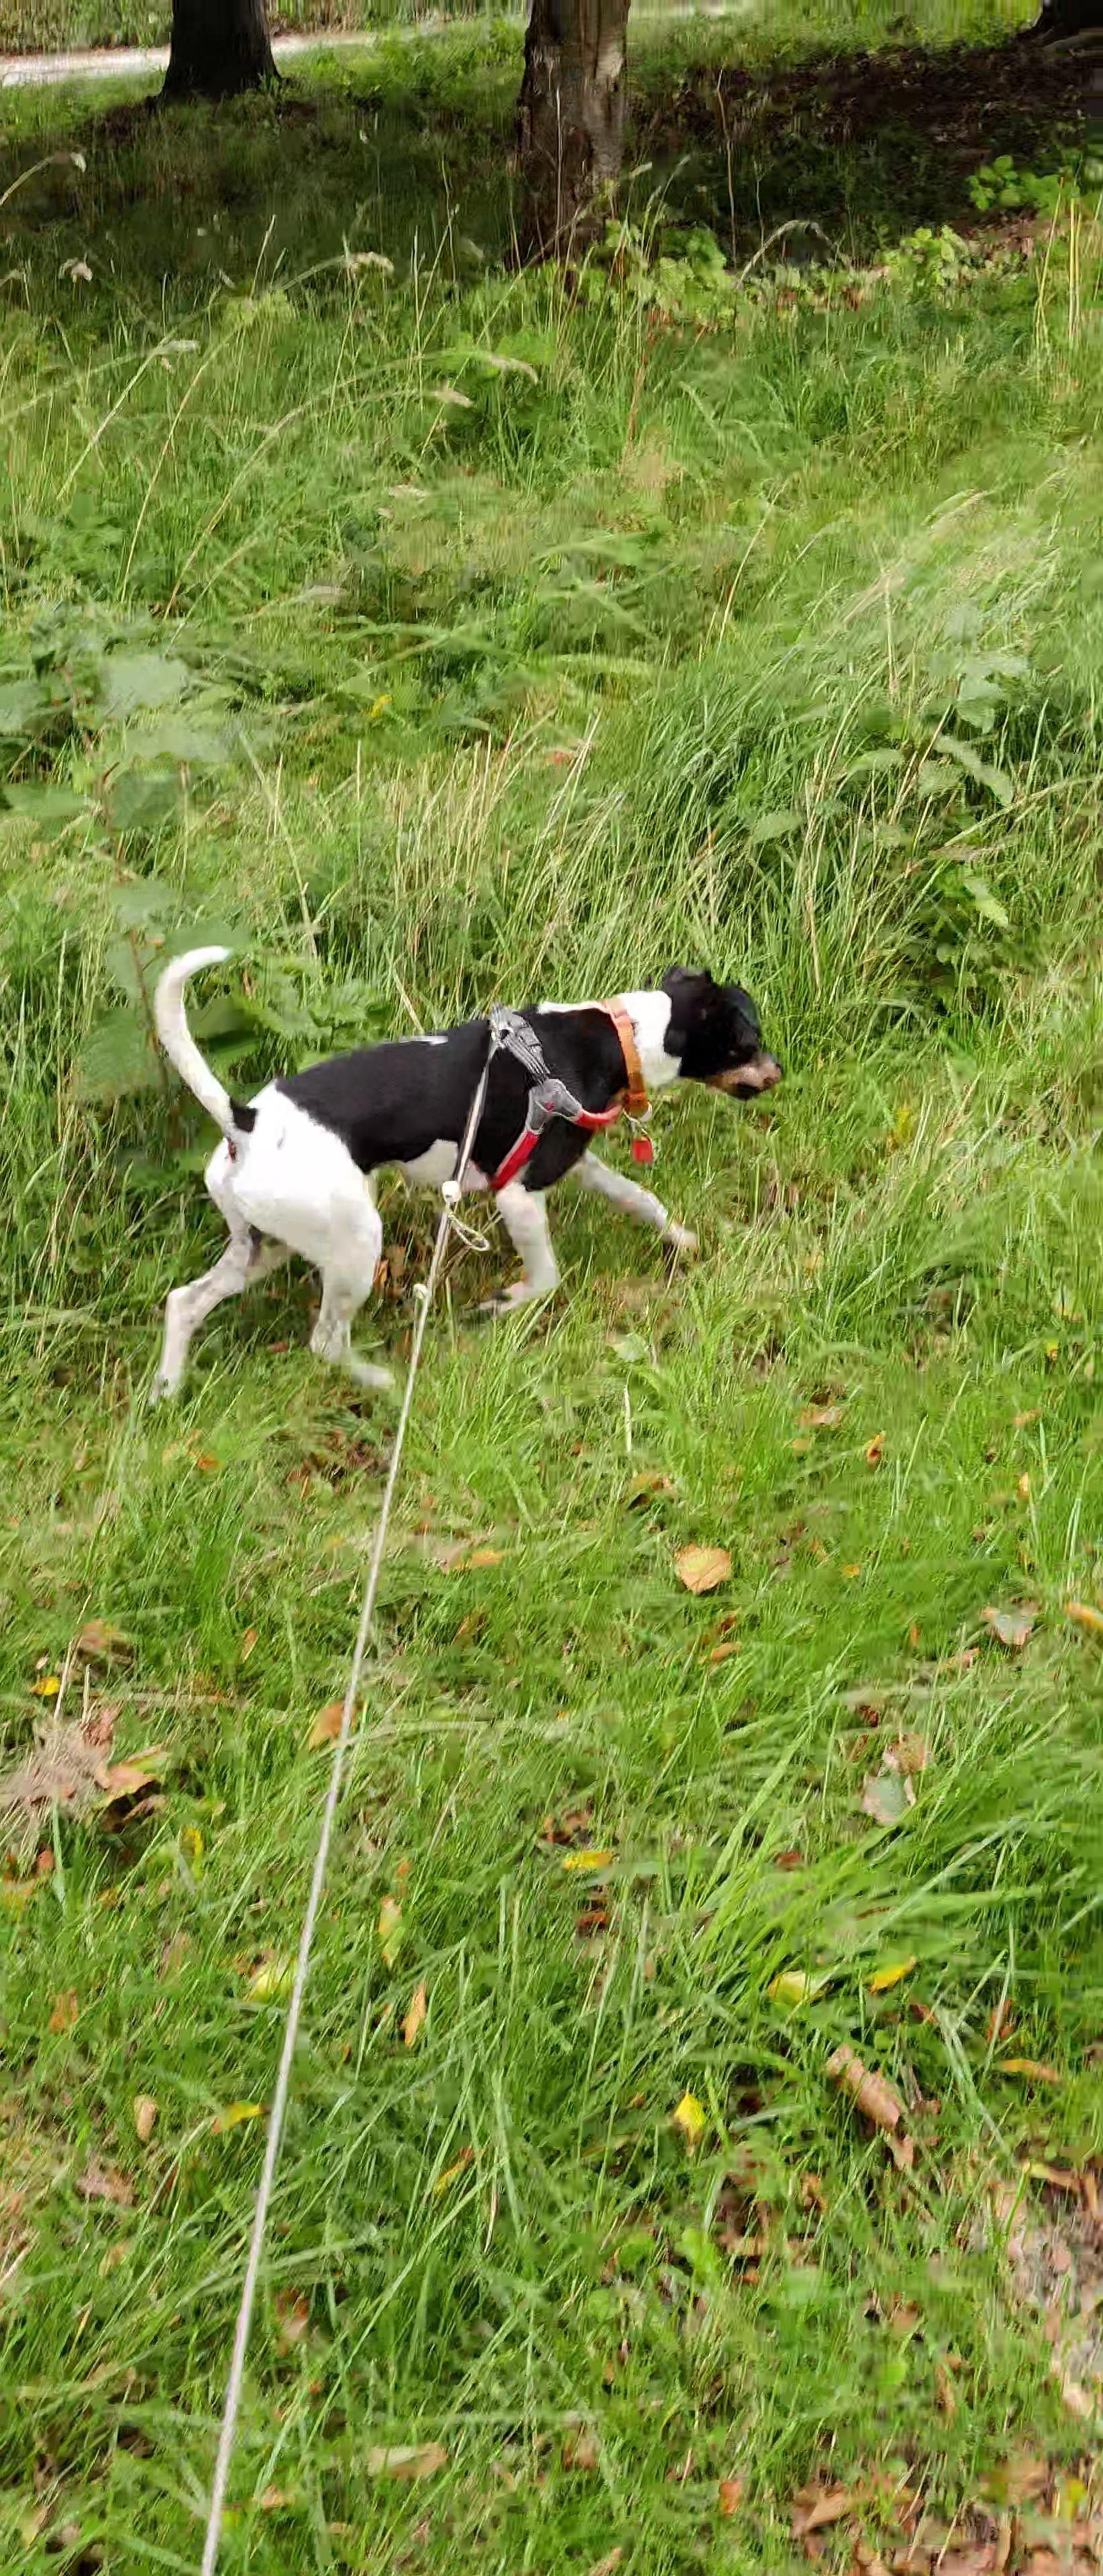Dog: (130, 940, 787, 1414)
